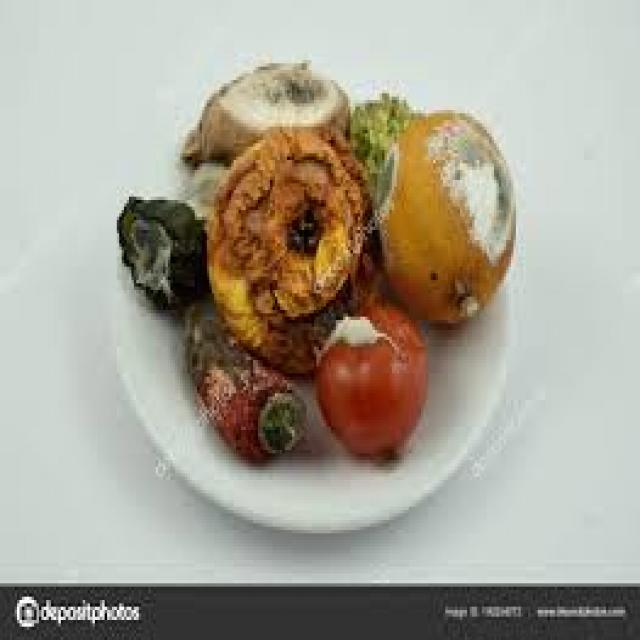organic waste: (204, 124, 380, 374), (370, 103, 513, 327), (178, 57, 348, 170), (182, 307, 306, 460), (314, 293, 428, 450), (117, 193, 207, 307), (353, 90, 418, 177), (187, 164, 219, 204)
